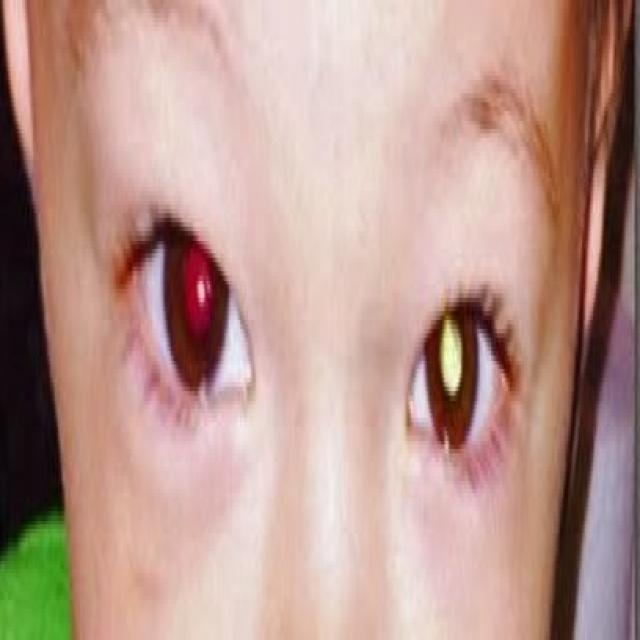reflexo-alterado: (399, 258, 512, 502)
reflexo-normal: (119, 221, 258, 428)
